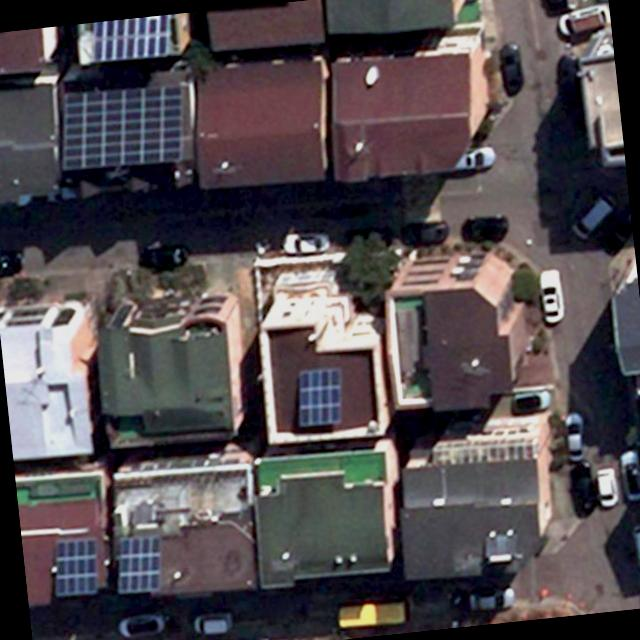solar: (51, 82, 190, 174), (83, 15, 180, 66), (289, 363, 348, 431), (48, 532, 104, 600), (111, 532, 166, 596)
